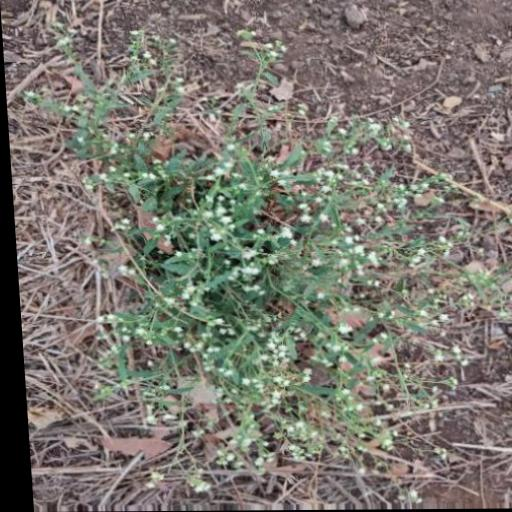weed: (35, 19, 512, 487)
